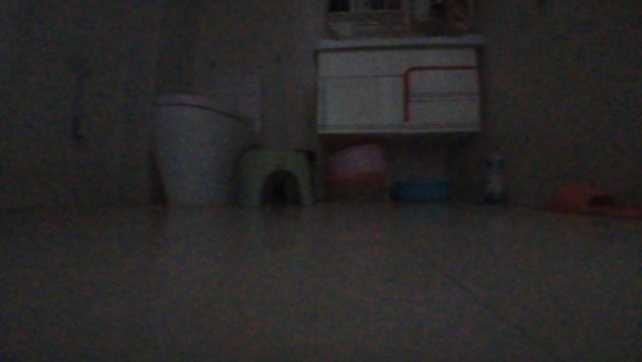toilet: (144, 67, 270, 206)
washstand: (313, 28, 481, 142)
